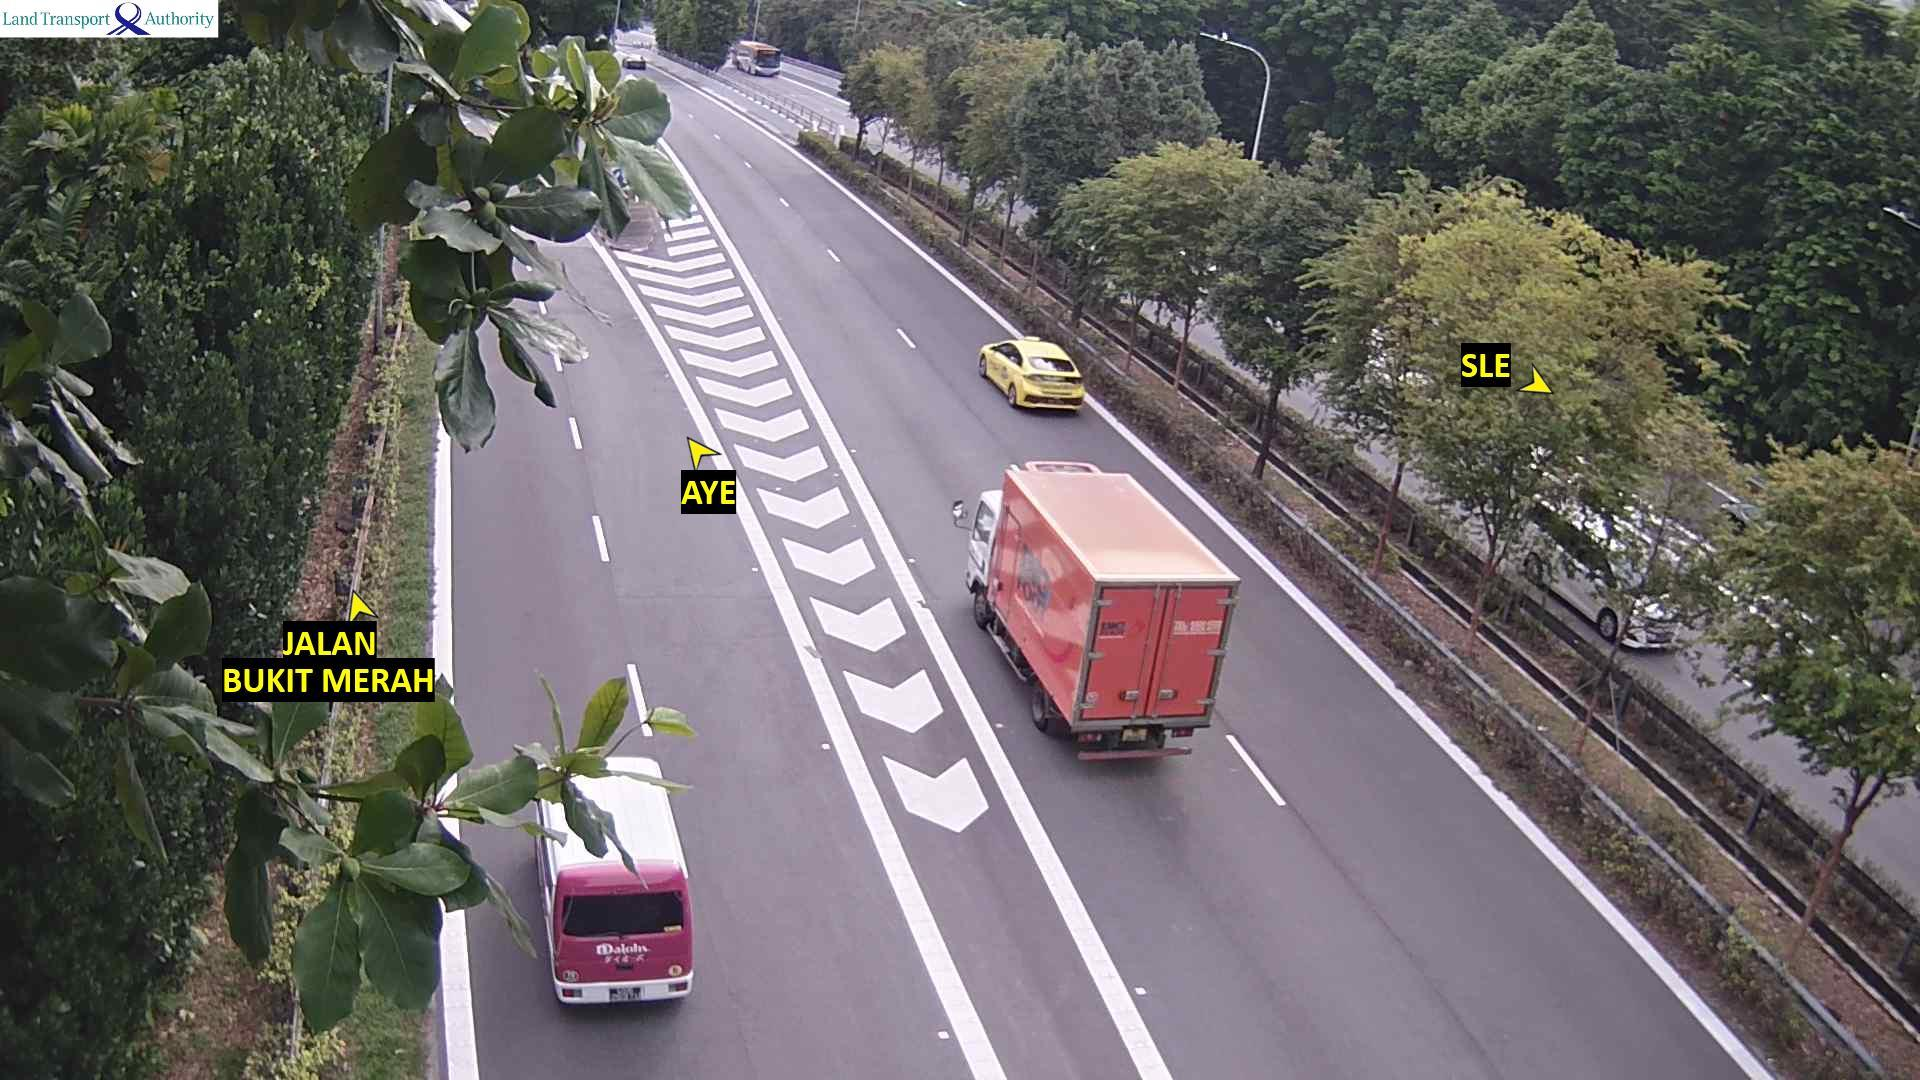incoming: (749, 47, 785, 79)
